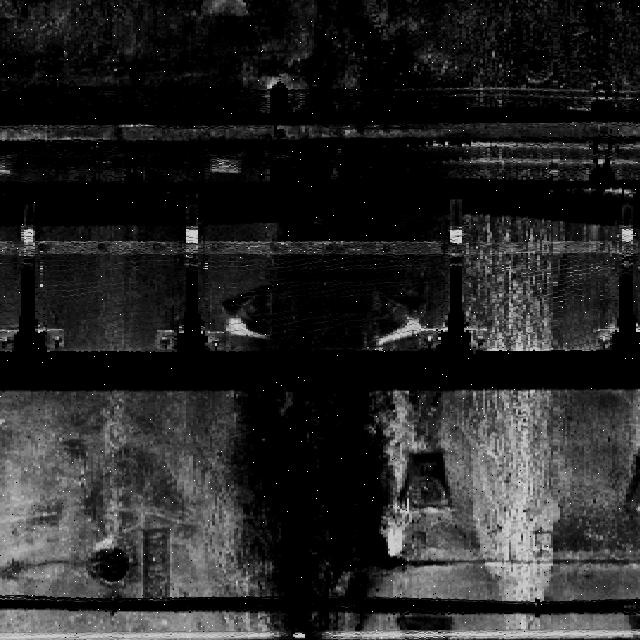leakage: (249, 1, 468, 354), (211, 392, 407, 639)
